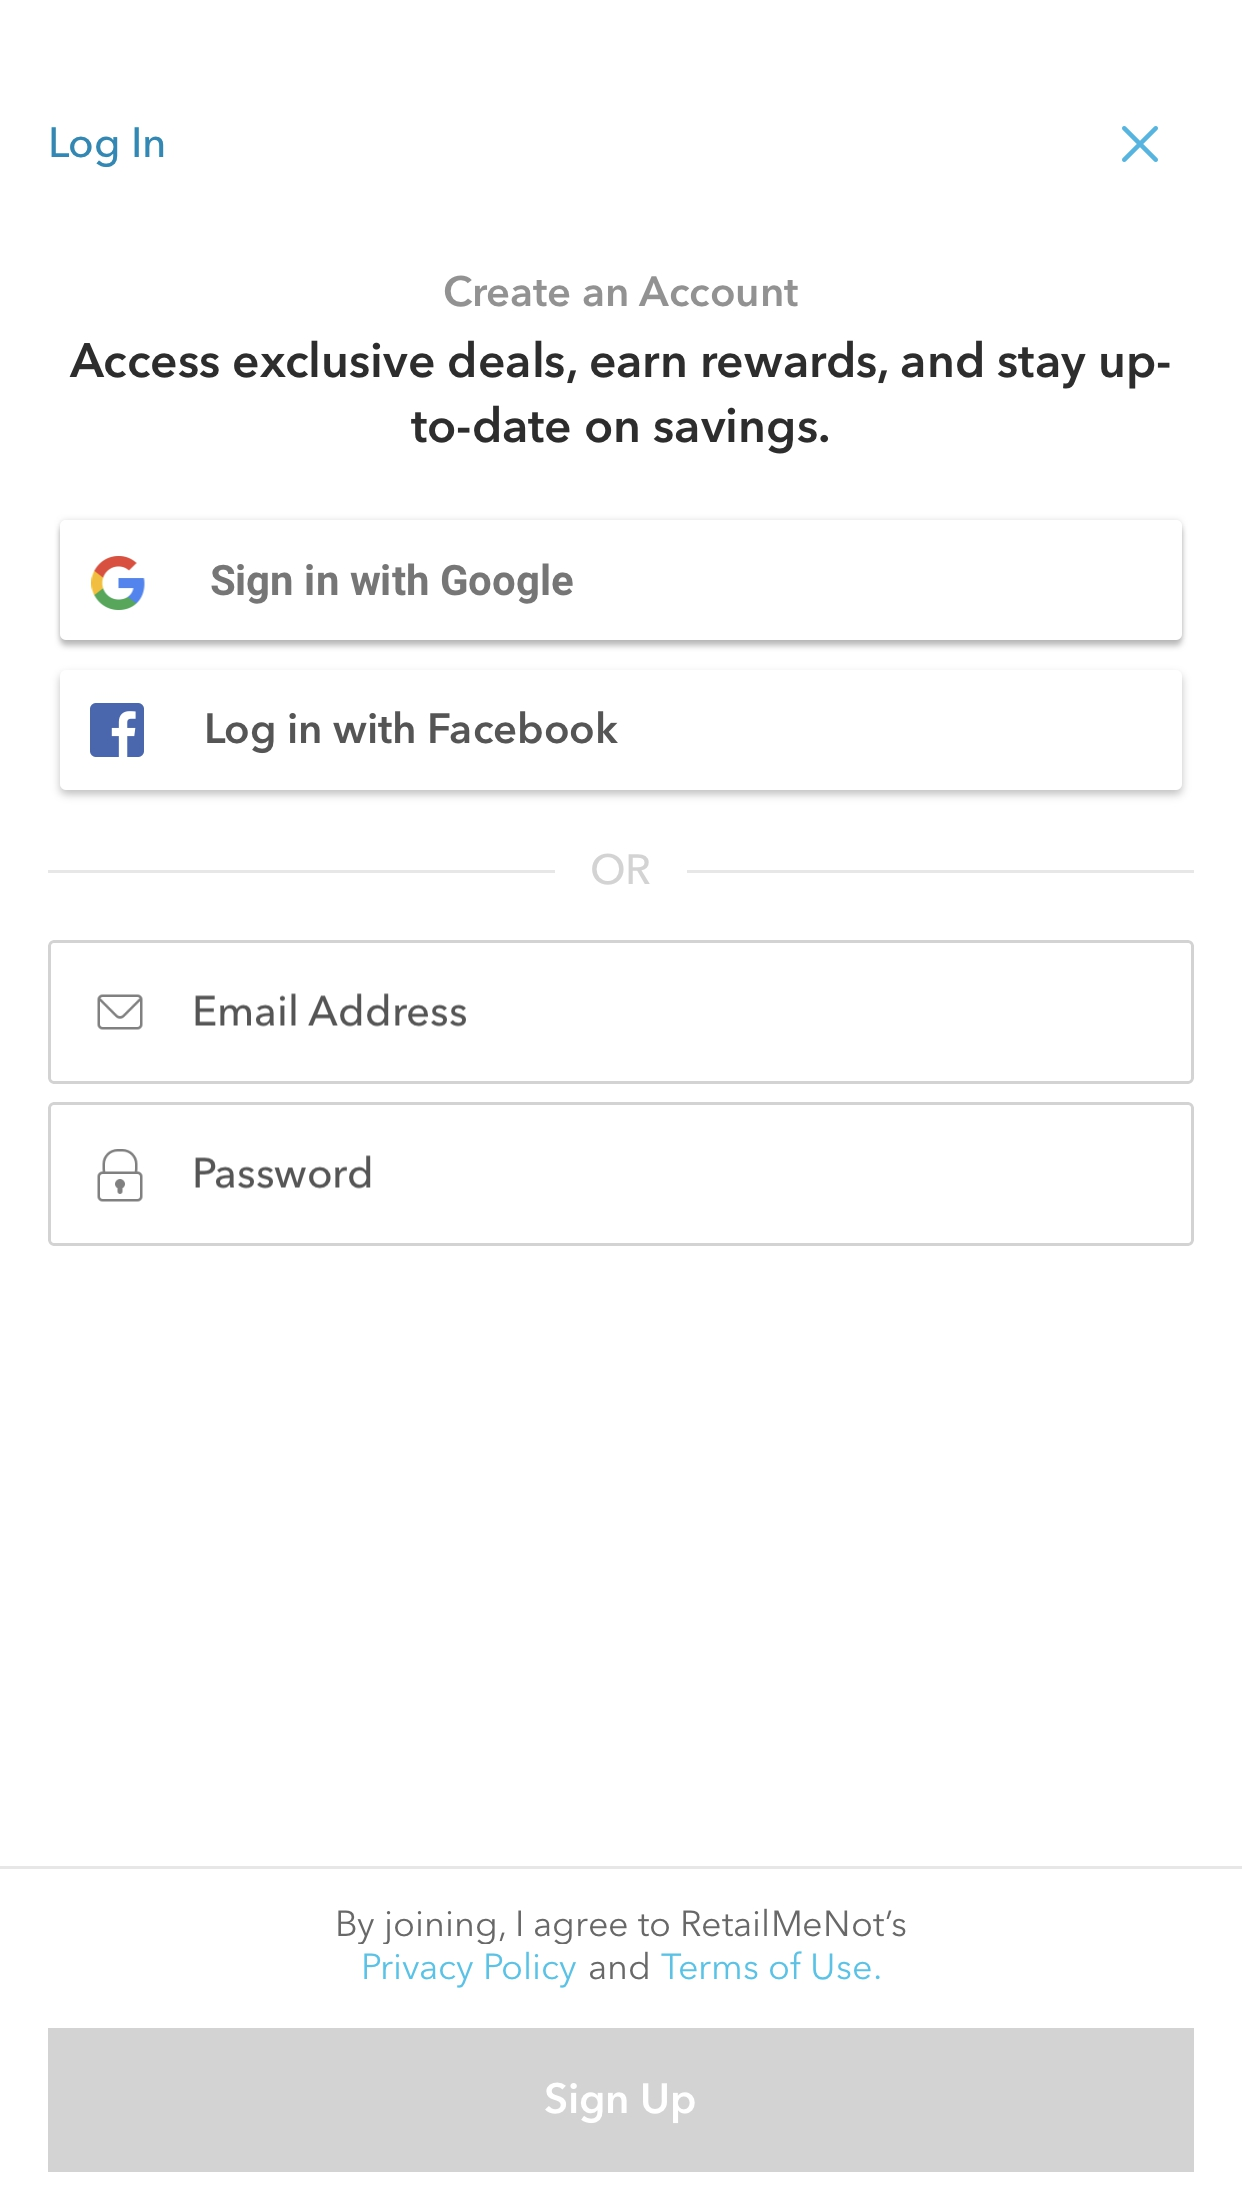EditText: (49, 1101, 1195, 1247), (49, 940, 1195, 1084)
Icon: (97, 1148, 146, 1203), (96, 993, 144, 1033), (1121, 126, 1159, 164)
Text: (70, 340, 1171, 453), (338, 1909, 907, 1990), (444, 274, 798, 308), (196, 993, 467, 1028), (196, 1156, 372, 1190), (52, 127, 165, 168), (591, 852, 651, 887)
TextButton: (49, 2028, 1195, 2173), (61, 519, 1184, 641), (61, 670, 1183, 792)
